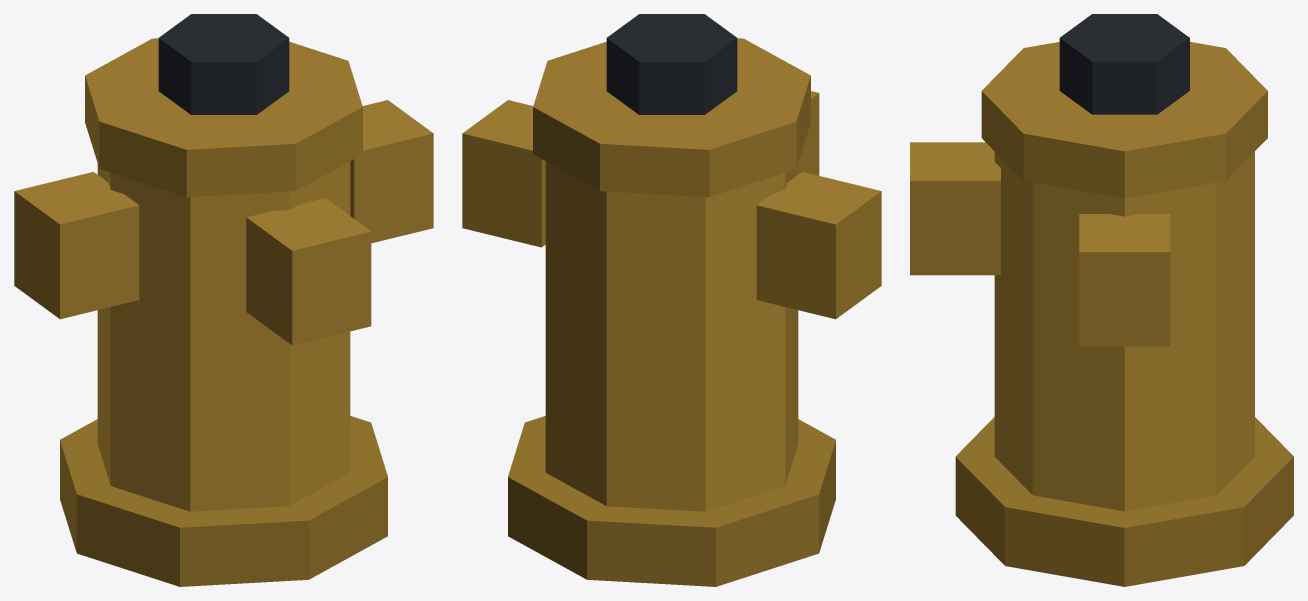
Rendered from prop_hydrant_b-nlqhyIrj.glb.
3 renders of one model, left to right at view 1: azimuth 30°, elevation 25°; view 2: azimuth 150°, elevation 25°; view 3: azimuth 270°, elevation 25°, orthographic.
Visible parts, largest first — view 1: prop; view 2: prop; view 3: prop.
Part boxes in pixels (<box>): prop: <box>14,14,433,586</box>; prop: <box>462,14,881,586</box>; prop: <box>910,14,1293,586</box>.
Size of the model in its own units: 0.66 by 0.81 by 0.59.
